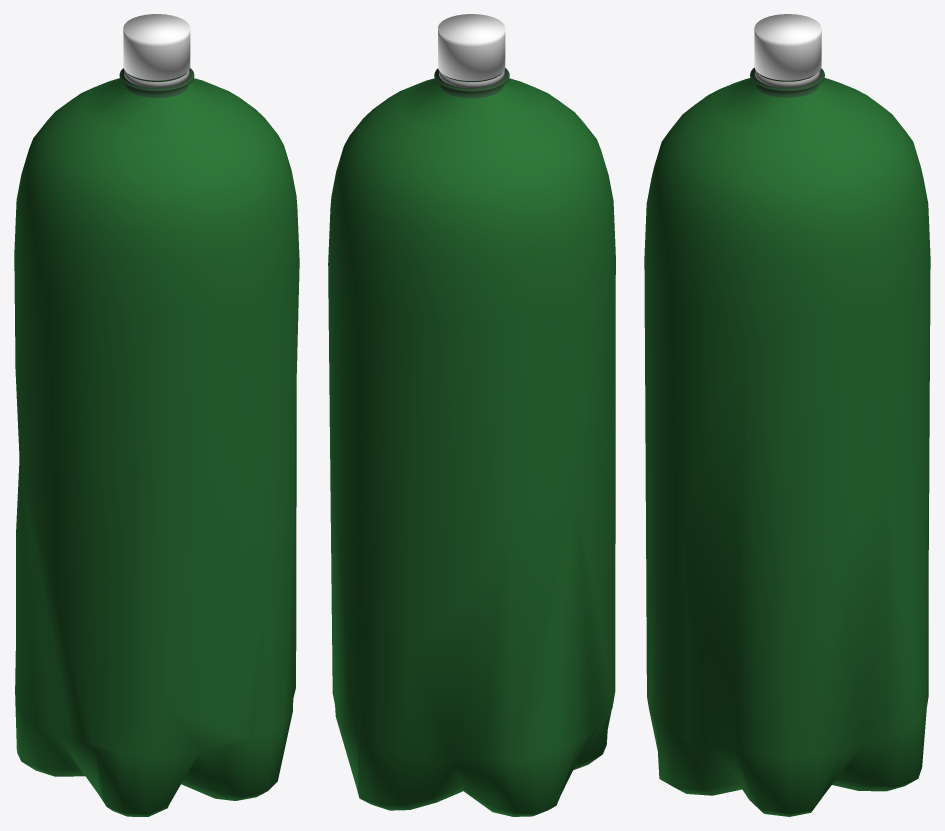
File: carafe.glb
3 renders of one model, left to right at view 1: azimuth 30°, elevation 25°; view 2: azimuth 150°, elevation 25°; view 3: azimuth 270°, elevation 25°, orthographic.
Visible parts, largest first — view 1: garrafa;bottle, tampa;cap; view 2: garrafa;bottle, tampa;cap; view 3: garrafa;bottle, tampa;cap.
Boxes of the visible parts, x1,y1,x2,y2 form: garrafa;bottle: (14, 68, 299, 816); tampa;cap: (123, 14, 190, 80); garrafa;bottle: (328, 68, 615, 816); tampa;cap: (438, 14, 505, 80); garrafa;bottle: (644, 67, 930, 816); tampa;cap: (754, 14, 821, 80).
Bounding box in the file's own units: 7.66 × 21.78 × 7.66.
